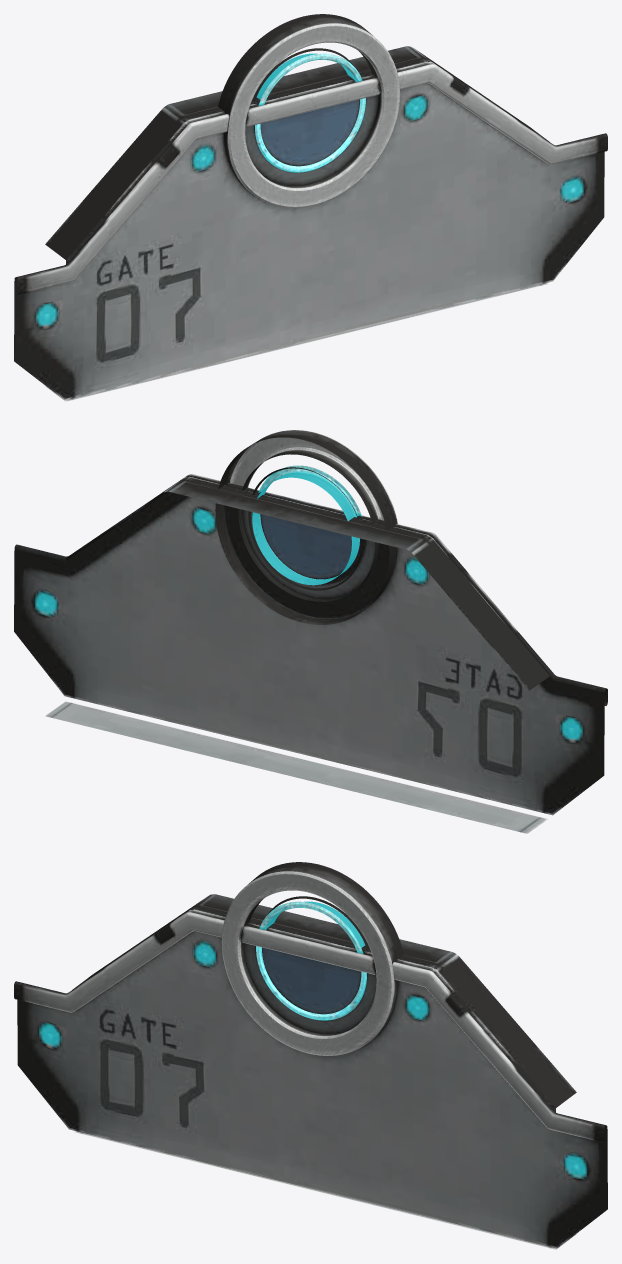
Rendered from Puerta_ParteAbajo.fbx.
The picture shows the model from 3 angles, top to bottom: view 1: azimuth 30°, elevation 25°; view 2: azimuth 150°, elevation 25°; view 3: azimuth 330°, elevation 25°; orthographic projection.
Visible parts, largest first — view 1: Object_9.004; view 2: Object_9.004; view 3: Object_9.004.
Part boxes in pixels (x1=…): Object_9.004: x1=14, y1=14, x2=607, y2=401; Object_9.004: x1=14, y1=430, x2=607, y2=833; Object_9.004: x1=14, y1=862, x2=607, y2=1249.
Bounding box in the file's own units: 1194 × 625 × 103.
1 material, 1 textured.
